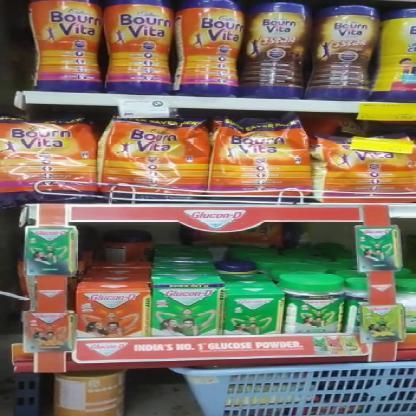Glucon D Regular 1-KG: (152, 282, 216, 339)
Glucon D Regular 2-KG: (287, 280, 344, 335)
Glucon D Tangy orange 1-KG: (80, 290, 146, 340)
